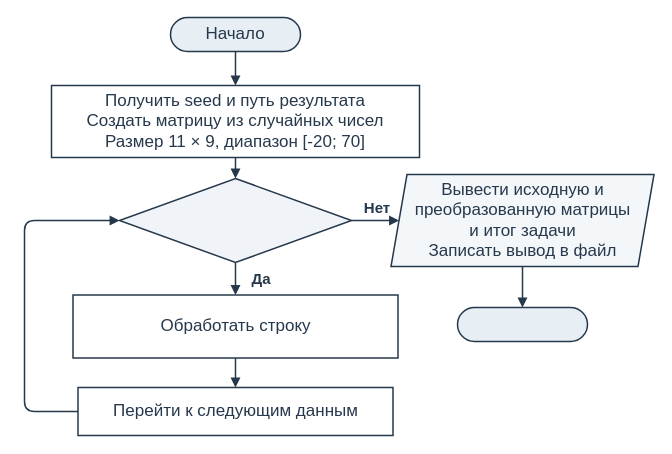
This 672x454 diagram has some shape labels left out. The centre of each missing label's shape, as x and y in pixels:
Конец: the point at 522,324
Остались данные для обработки?: the point at 235,220
